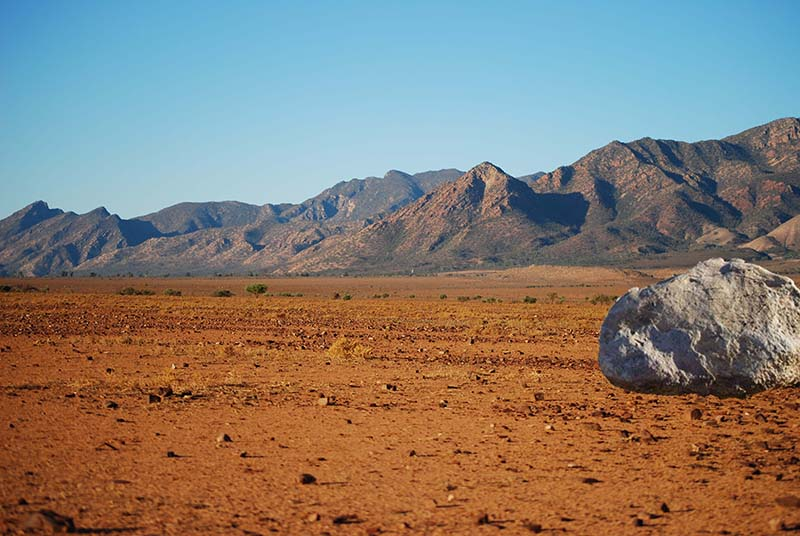Rocks: (586, 252, 800, 400)
